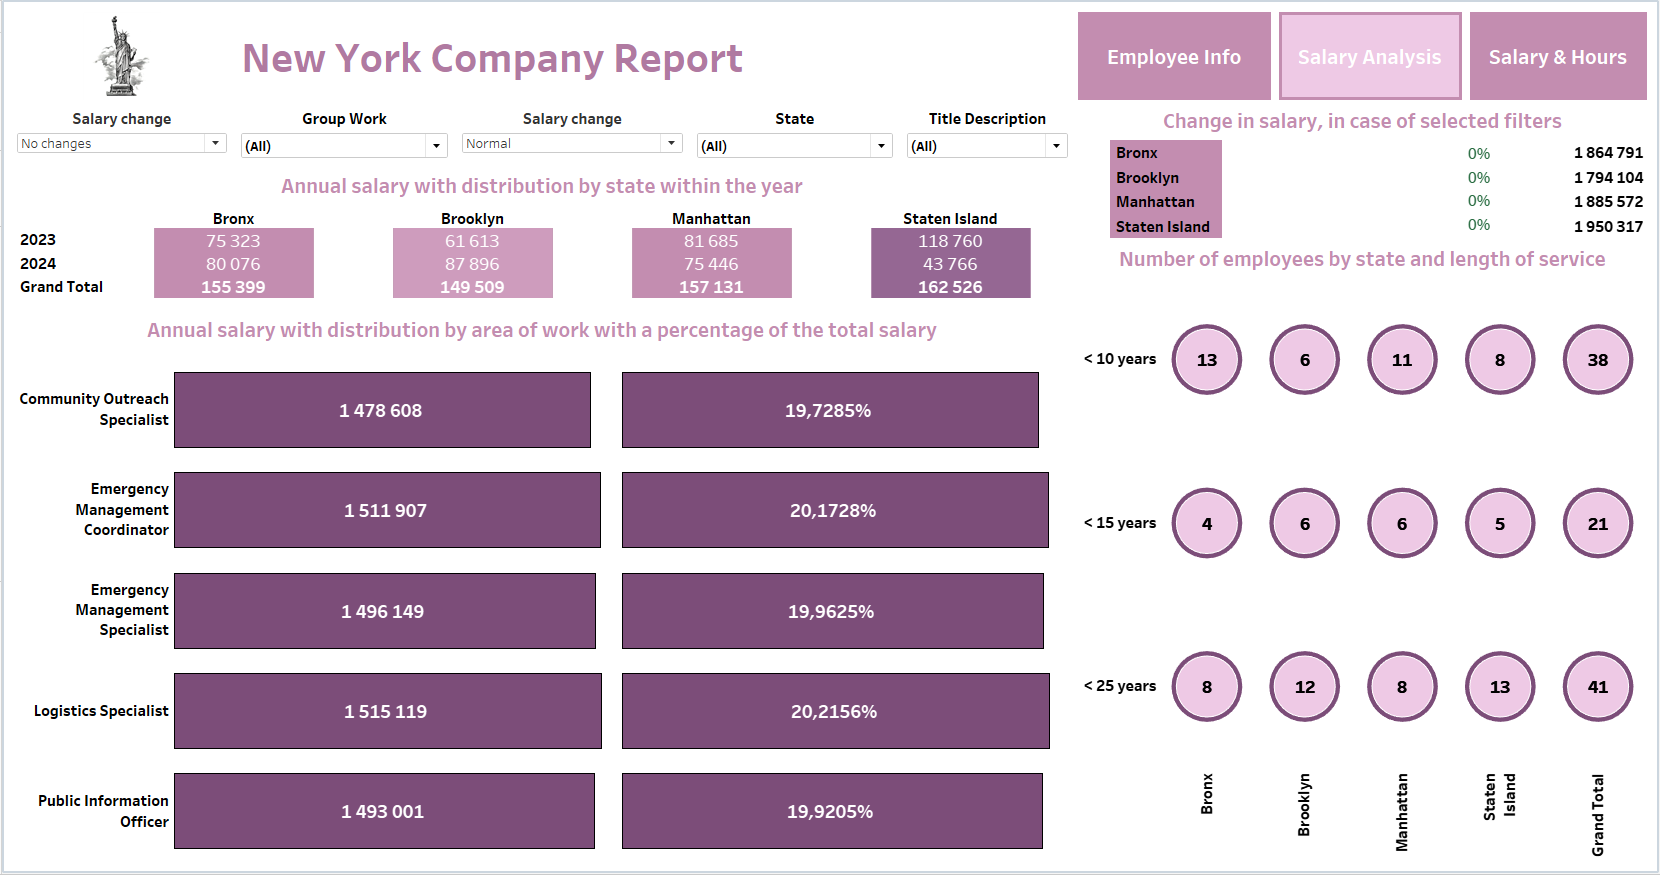

The dashboard page shown, as its layout file describes it:
{"tool":"tableau","page":{"name":"Salary Analysis","canvas":[1000,1000],"units":"permille","ordinal":2},"visuals":[{"type":"image","box":[4.8,9.2,134.9,109.9]},{"type":"text","box":[139.8,9.2,507.4,109.9]},{"type":"dashboard-object","box":[647.1,9.2,121.1,110]},{"type":"dashboard-object","box":[768.3,9.2,115.3,110]},{"type":"dashboard-object","box":[883.5,9.2,111.7,110]},{"type":"parameter","param":"[Parameters].[Parameter 2]","box":[4.8,119.1,135.2,71]},{"type":"filter","title":"3","param":"[federated.066786l0dhilq216jq1yn0u2ozgm].[none:Calculation_652459044729503745:nk","box":[140,119.1,133.3,71]},{"type":"parameter","param":"[Parameters].[Parameter 1]","box":[273.3,119.1,141.9,71]},{"type":"filter","title":"3","param":"[federated.066786l0dhilq216jq1yn0u2ozgm].[none:Work Location Borough:nk]","box":[415.2,119.1,126.6,71]},{"type":"filter","title":"4","param":"[federated.066786l0dhilq216jq1yn0u2ozgm].[none:Title Description:nk]","box":[541.8,119.1,105.3,71]},{"type":"text","box":[647.1,119.1,348.1,36.6]},{"type":"blank","box":[647.1,155.8,19.1,121.4]},{"type":"worksheet","title":"6","mark":"Automatic","rows":["Work Location Borough"],"box":[666.2,155.8,329,121.4]},{"type":"worksheet","title":"6.1","mark":"Text","rows":["Work Location Borough"],"box":[837.7,161.5,107.6,108.8]},{"type":"text","box":[4.8,190.1,642.3,43.5]},{"type":"worksheet","title":"Штаты по зарплатам за год","mark":"Shape","rows":["Year"],"cols":["Work Location Borough"],"box":[4.8,233.7,642.3,112.2]},{"type":"text","box":[647.1,277.2,348.1,36.6]},{"type":"worksheet","title":"3","mark":"Pie","rows":["Calculation_652459044729503745","Calculation_574208998348664838","Calculation_574208998348759048"],"cols":["Work Location Borough"],"box":[647.1,313.9,348.1,677]},{"type":"text","box":[4.8,345.9,642.3,60.7]},{"type":"worksheet","title":"4","mark":"Bar","rows":["Title Description"],"cols":["Calculation_574208998273028097","Calculation_574208998273028097"],"box":[4.8,406.6,642.3,584.2]}]}

Visuals, with their boxes on the dashboard's canvas, which has no fixed pixel size, in thousandths of its width and height (x1, y1, x2, y2). These are canvas units, not pixel positions in the 1660x875 screenshot, which may show the page scaled, cropped or inside an application window:
image: (x1=5, y1=9, x2=140, y2=119)
text: (x1=140, y1=9, x2=647, y2=119)
dashboard-object: (x1=647, y1=9, x2=768, y2=119)
dashboard-object: (x1=768, y1=9, x2=884, y2=119)
dashboard-object: (x1=884, y1=9, x2=995, y2=119)
parameter: (x1=5, y1=119, x2=140, y2=190)
"3" filter: (x1=140, y1=119, x2=273, y2=190)
parameter: (x1=273, y1=119, x2=415, y2=190)
"3" filter: (x1=415, y1=119, x2=542, y2=190)
"4" filter: (x1=542, y1=119, x2=647, y2=190)
text: (x1=647, y1=119, x2=995, y2=156)
blank: (x1=647, y1=156, x2=666, y2=277)
"6" worksheet: (x1=666, y1=156, x2=995, y2=277)
"6.1" worksheet (Text marks): (x1=838, y1=162, x2=945, y2=270)
text: (x1=5, y1=190, x2=647, y2=234)
"Штаты по зарплатам за год" worksheet (Shape marks): (x1=5, y1=234, x2=647, y2=346)
text: (x1=647, y1=277, x2=995, y2=314)
"3" worksheet (Pie marks): (x1=647, y1=314, x2=995, y2=991)
text: (x1=5, y1=346, x2=647, y2=407)
"4" worksheet (Bar marks): (x1=5, y1=407, x2=647, y2=991)
